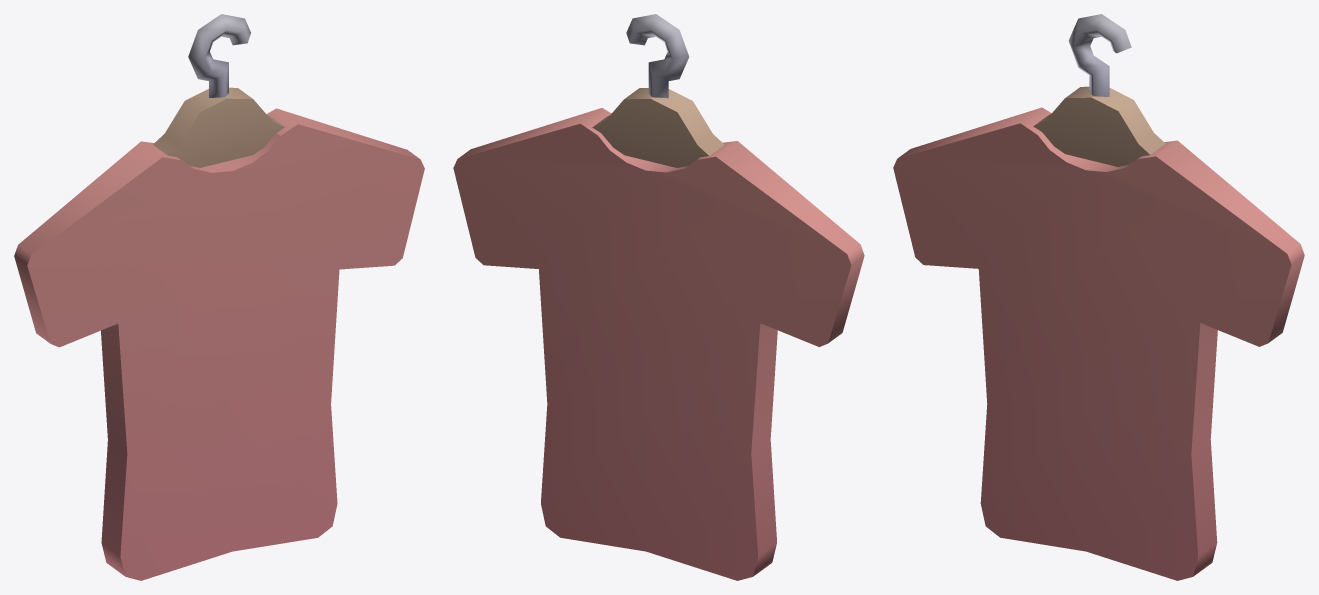
The model's file is clothing-hanging-shirt.glb.
3 renders of one model, left to right at view 1: azimuth 30°, elevation 25°; view 2: azimuth 150°, elevation 25°; view 3: azimuth 330°, elevation 25°, orthographic.
Visible parts, largest first — view 1: clothing-hanging-shirt; view 2: clothing-hanging-shirt; view 3: clothing-hanging-shirt.
Boxes of the visible parts, <box> form: clothing-hanging-shirt: <box>14,14,424,580</box>; clothing-hanging-shirt: <box>453,14,864,580</box>; clothing-hanging-shirt: <box>893,14,1304,580</box>.
Size of the model in its own units: 0.5963 by 0.7696 by 0.0675.
